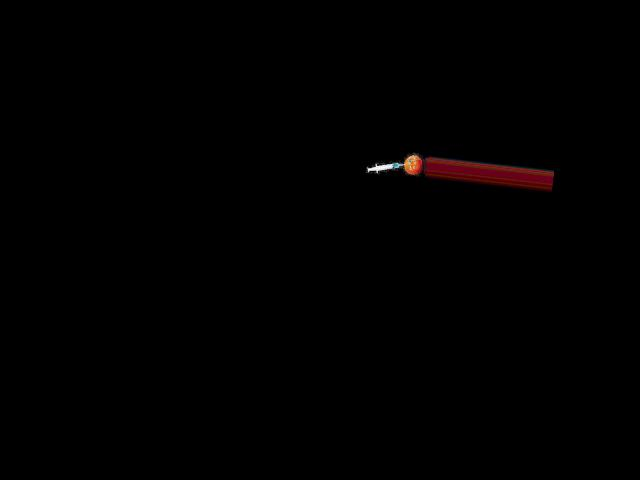tomato: (403, 154, 423, 176)
